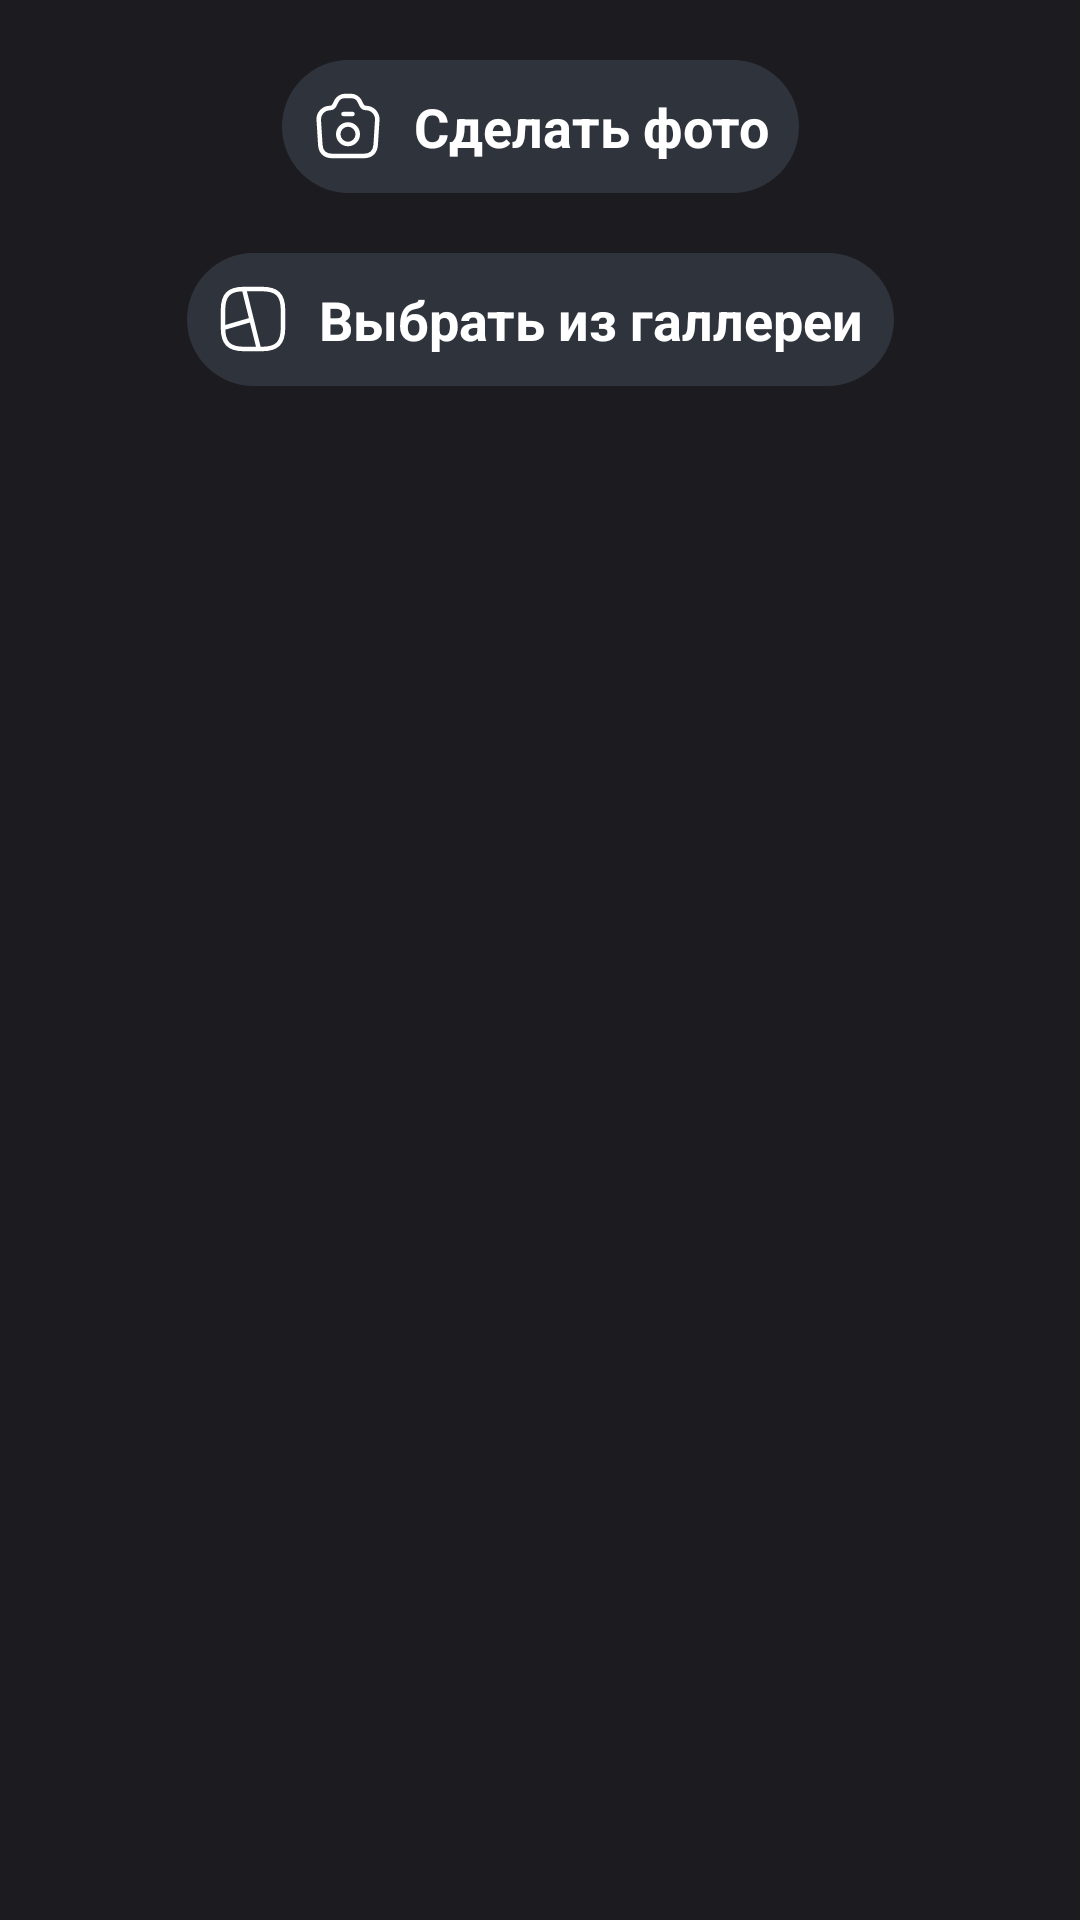

Icons on this 1080px×1920px Android screen, each with its box as detection(x1, y1, x2, y2):
camera: detection(316, 93, 380, 159)
pictureframe: detection(220, 286, 286, 352)
